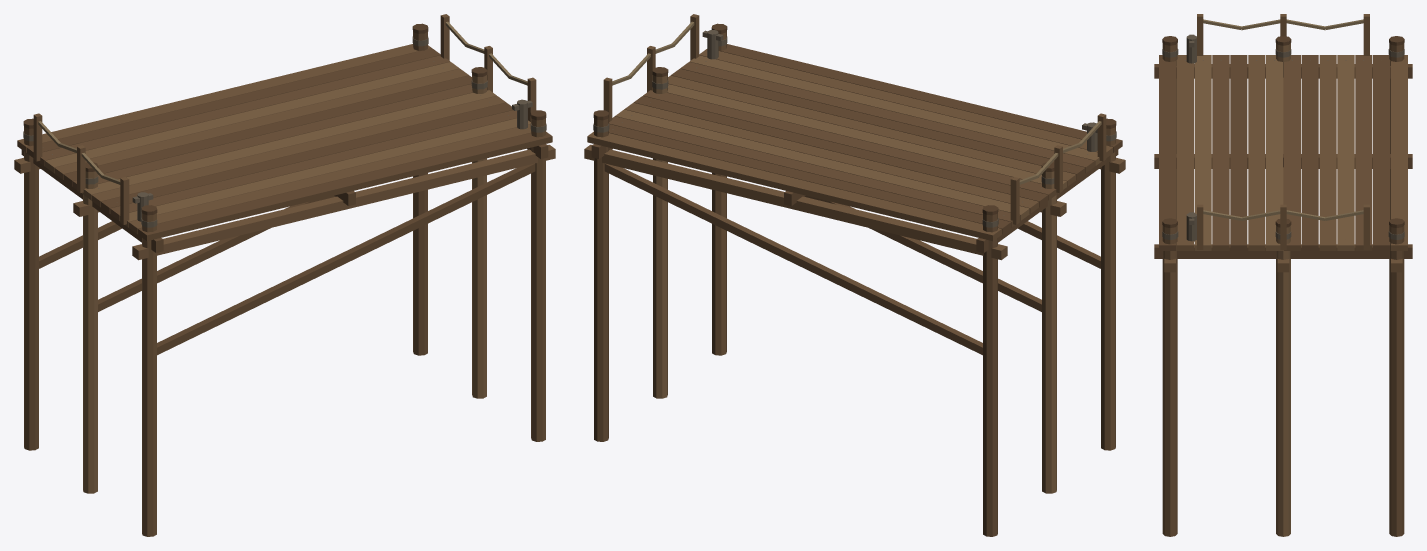
File: pier_landing.glb
3 views of the same model, side by side, from view 1: azimuth 30°, elevation 25°; view 2: azimuth 150°, elevation 25°; view 3: azimuth 270°, elevation 25° (orthographic). The views are drawn at different scales.
Parts seen in each view (by area): view 1: pier_landing_Harbor oak plank 1, pier_landing_Harbor oak plank 0, pier_landing_Harbor oak plank 2, pier_landing_Harbor oak plank 3, pier_landing_Keeper dark forged bronze, pier_landing_Harbor hemp lashings, pier_landing_Harbor timber end grain; view 2: pier_landing_Harbor oak plank 1, pier_landing_Harbor oak plank 0, pier_landing_Harbor oak plank 3, pier_landing_Harbor oak plank 2, pier_landing_Keeper dark forged bronze, pier_landing_Harbor hemp lashings, pier_landing_Harbor timber end grain; view 3: pier_landing_Harbor oak plank 1, pier_landing_Harbor oak plank 0, pier_landing_Harbor oak plank 3, pier_landing_Harbor oak plank 2, pier_landing_Harbor hemp lashings, pier_landing_Keeper dark forged bronze, pier_landing_Harbor timber end grain.
Boxes of the visible parts, x1=… form: pier_landing_Harbor oak plank 1: x1=14, y1=14, x2=555, y2=536; pier_landing_Harbor oak plank 0: x1=21, y1=48, x2=552, y2=355; pier_landing_Harbor oak plank 2: x1=45, y1=62, x2=530, y2=493; pier_landing_Harbor oak plank 3: x1=24, y1=31, x2=516, y2=450; pier_landing_Keeper dark forged bronze: x1=23, y1=36, x2=546, y2=227; pier_landing_Harbor hemp lashings: x1=38, y1=21, x2=527, y2=184; pier_landing_Harbor timber end grain: x1=23, y1=23, x2=546, y2=215; pier_landing_Harbor oak plank 1: x1=584, y1=14, x2=1125, y2=450; pier_landing_Harbor oak plank 0: x1=591, y1=44, x2=1122, y2=355; pier_landing_Harbor oak plank 3: x1=594, y1=62, x2=1094, y2=536; pier_landing_Harbor oak plank 2: x1=615, y1=55, x2=1101, y2=493; pier_landing_Keeper dark forged bronze: x1=593, y1=30, x2=1116, y2=227; pier_landing_Harbor hemp lashings: x1=612, y1=21, x2=1101, y2=184; pier_landing_Harbor timber end grain: x1=593, y1=23, x2=1116, y2=215; pier_landing_Harbor oak plank 1: x1=1162, y1=14, x2=1407, y2=536; pier_landing_Harbor oak plank 0: x1=1154, y1=55, x2=1412, y2=258; pier_landing_Harbor oak plank 3: x1=1212, y1=43, x2=1404, y2=536; pier_landing_Harbor oak plank 2: x1=1194, y1=43, x2=1354, y2=536; pier_landing_Harbor hemp lashings: x1=1203, y1=19, x2=1363, y2=220; pier_landing_Keeper dark forged bronze: x1=1162, y1=34, x2=1404, y2=241; pier_landing_Harbor timber end grain: x1=1162, y1=36, x2=1404, y2=227.
Bounding box in the file's own units: 11.1 × 8.8 × 6.2.
